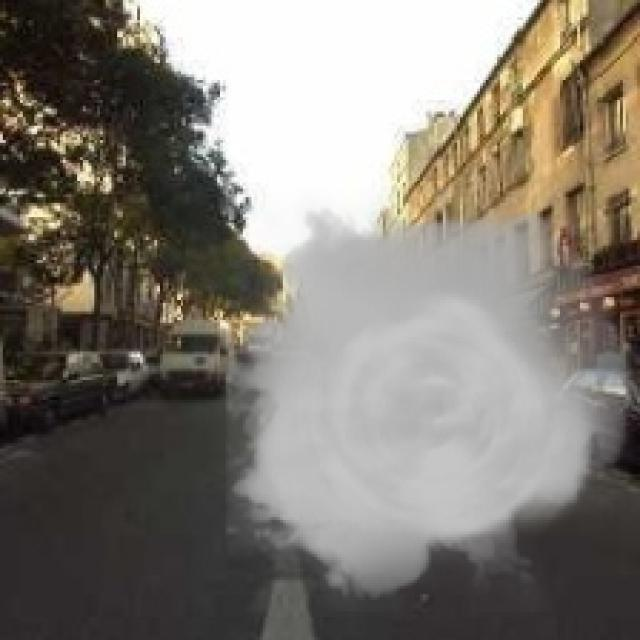Smoke: (226, 188, 634, 612)
